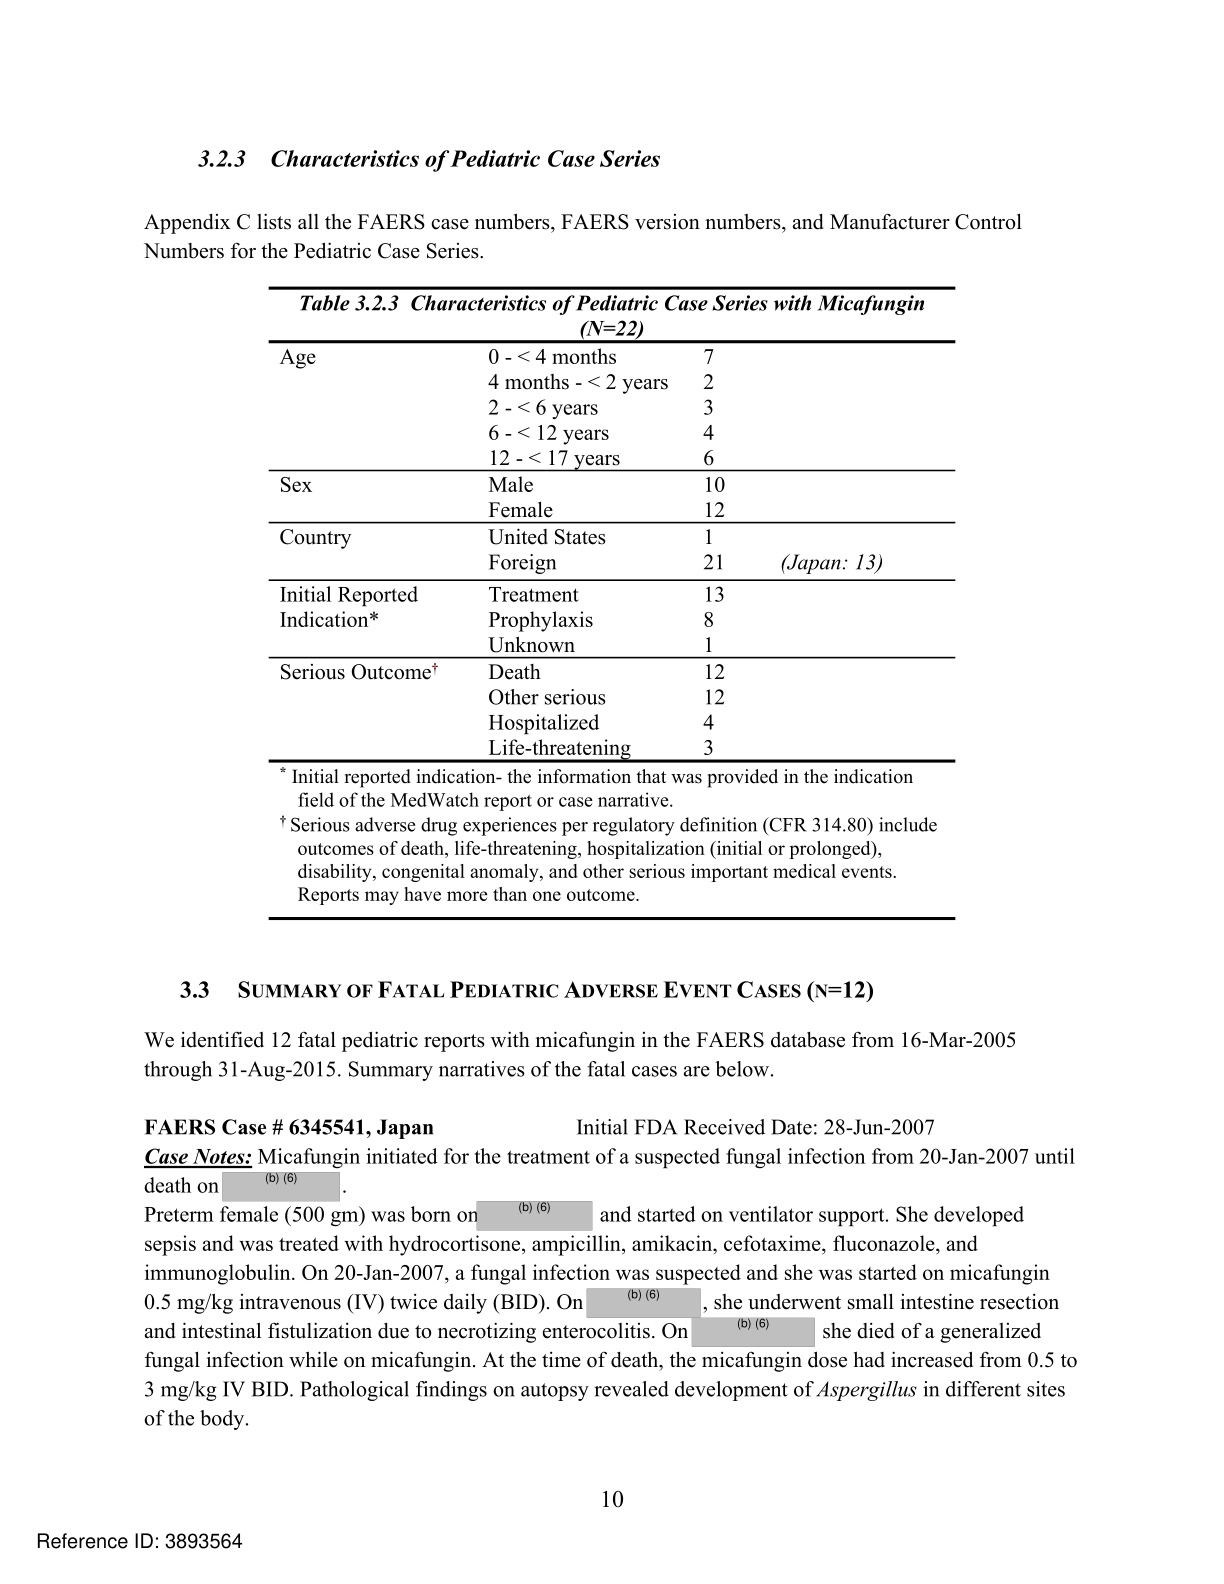partial_lined_merged_cells: (267, 285, 957, 921)
